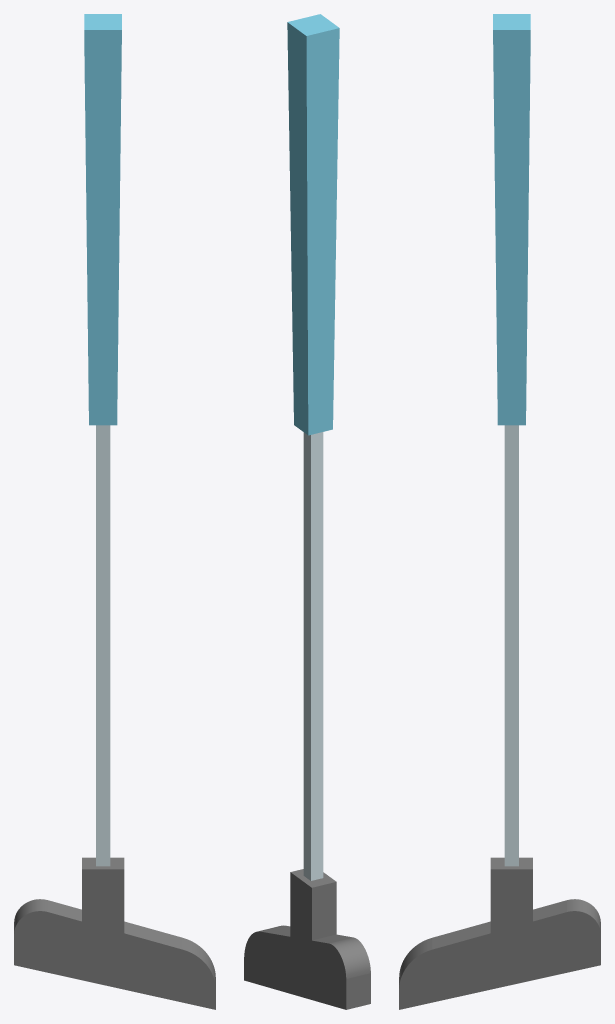
File: club_blue.glb
3 renders of one model, left to right at view 1: azimuth 90°, elevation 25°; view 2: azimuth 210°, elevation 25°; view 3: azimuth 270°, elevation 25°, orthographic.
Parts seen in each view (by area): view 1: club_blue; view 2: club_blue; view 3: club_blue.
Boxes of the visible parts, <box> form: club_blue: <box>14,14,215,1009</box>; club_blue: <box>244,14,370,1009</box>; club_blue: <box>399,14,600,1009</box>.
Bounding box in the file's own units: 0.0346 × 0.9899 × 0.1844.
